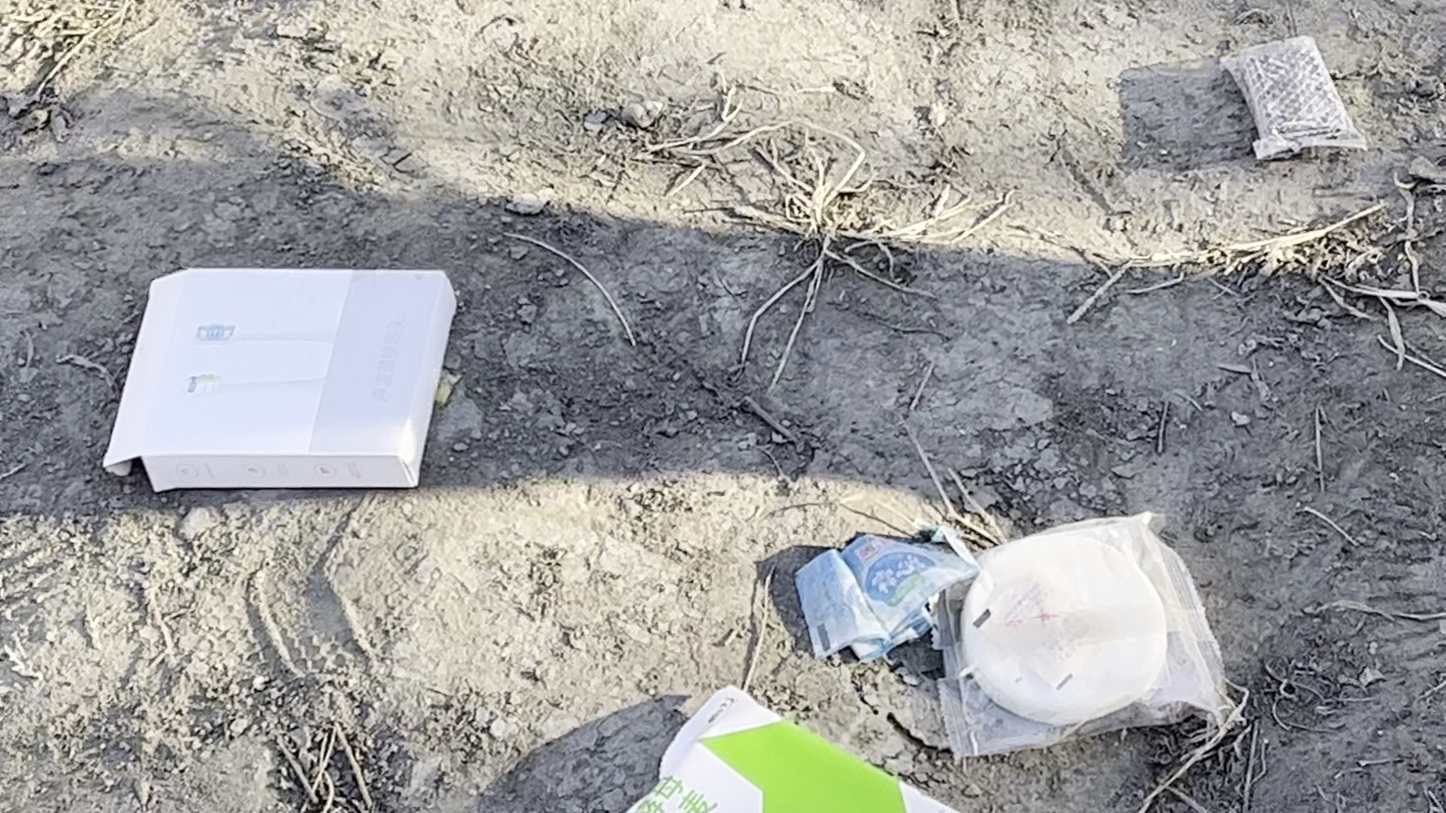floater: (102, 267, 460, 492), (930, 512, 1220, 764), (630, 689, 962, 813), (793, 529, 973, 661), (1222, 36, 1371, 158)
